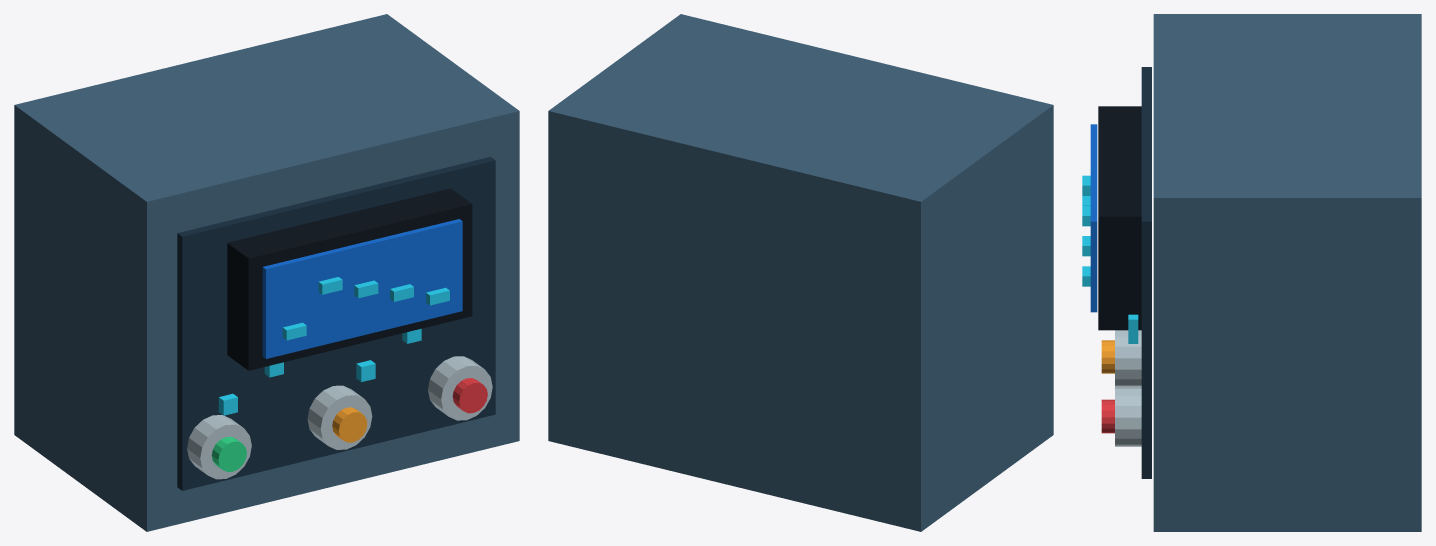
The model's file is 32_L69_PressureEnthalpyCycleDisplay.fbx.
3 views of the same model, side by side, from view 1: azimuth 30°, elevation 25°; view 2: azimuth 150°, elevation 25°; view 3: azimuth 270°, elevation 25° (orthographic).
Parts seen in each view (by area): view 1: PressureEnthalpyCycleDisplay; view 2: PressureEnthalpyCycleDisplay; view 3: PressureEnthalpyCycleDisplay.
Part boxes in pixels (bbox=[...]): PressureEnthalpyCycleDisplay: bbox=[14, 14, 519, 531]; PressureEnthalpyCycleDisplay: bbox=[548, 14, 1053, 531]; PressureEnthalpyCycleDisplay: bbox=[1082, 14, 1421, 531].
Size of the model in its own units: 65 by 55 by 50.6.
